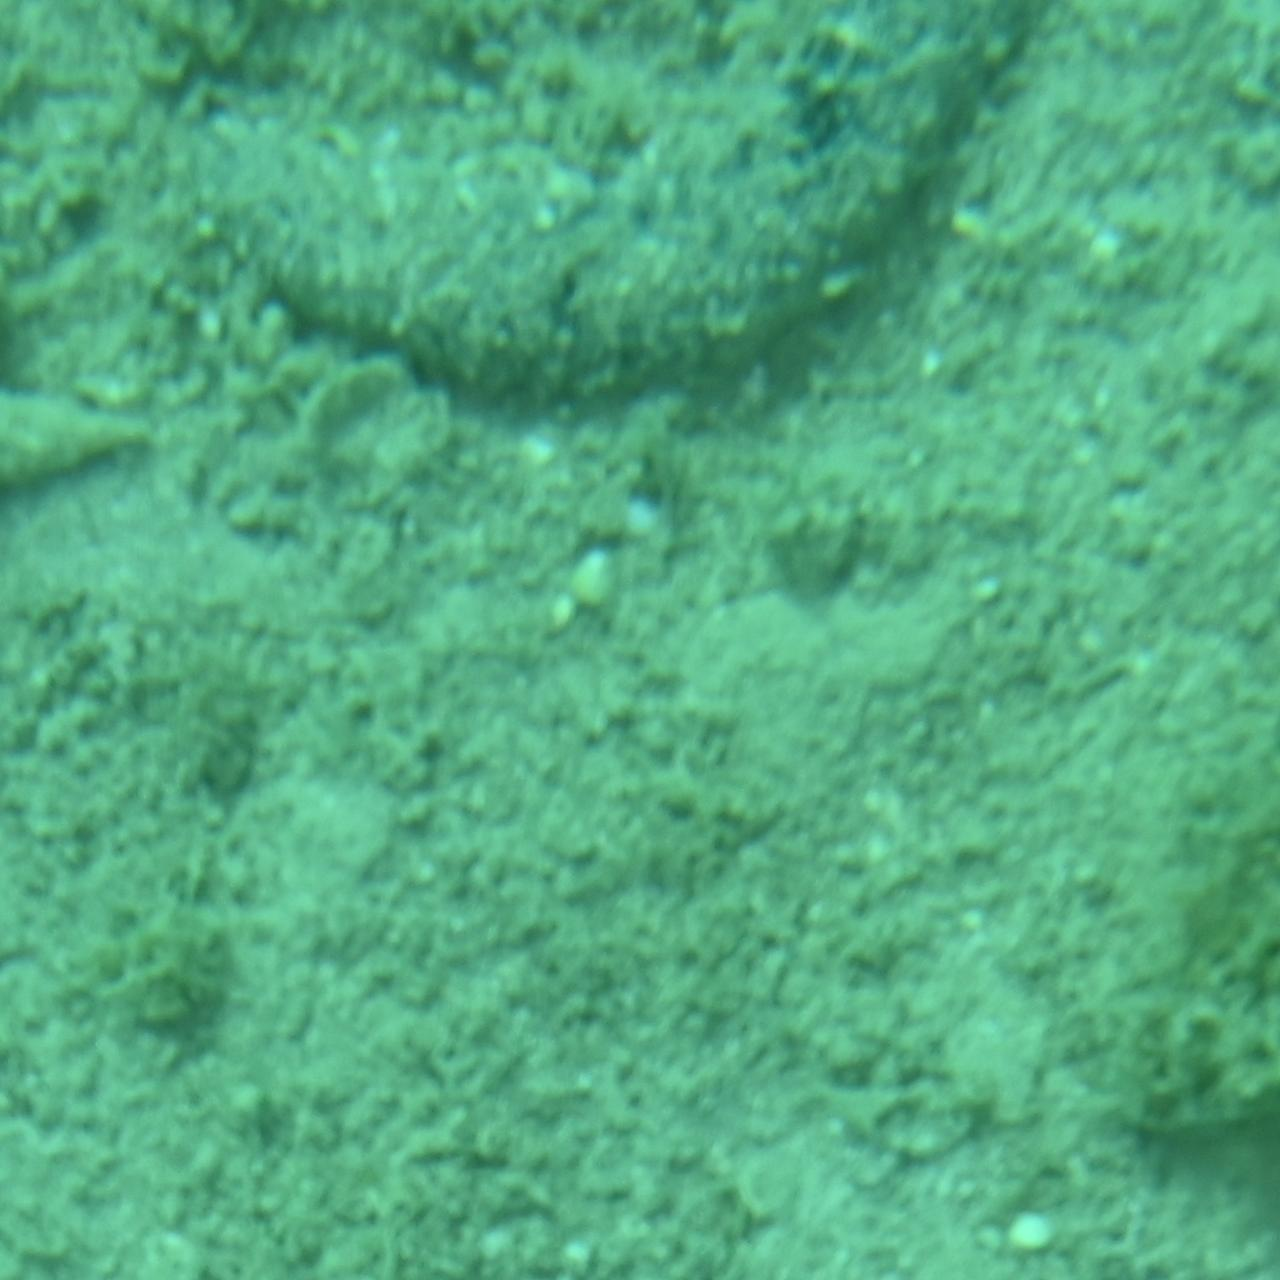Holothuria tubulosa: (224, 0, 1056, 420)
